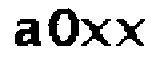0: (45, 5, 80, 49)
a: (10, 17, 41, 50)
x: (82, 16, 113, 50), (114, 16, 146, 48)
